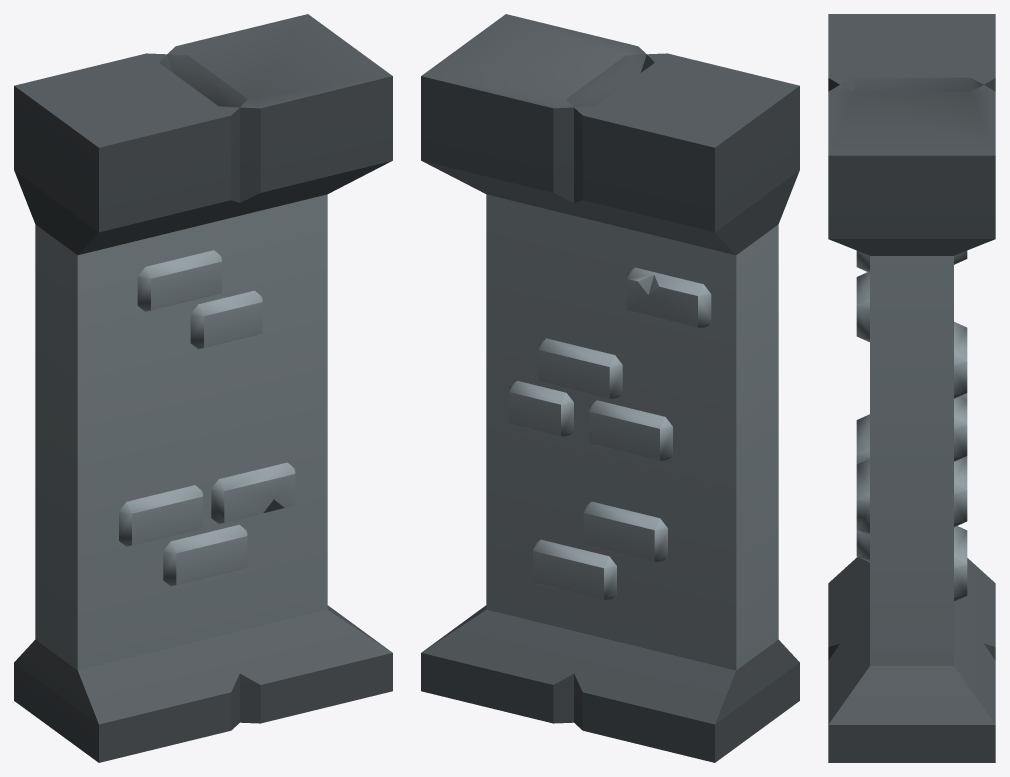
Rendered from wall_half_endcap.gltf.
3 renders of one model, left to right at view 1: azimuth 30°, elevation 25°; view 2: azimuth 150°, elevation 25°; view 3: azimuth 270°, elevation 25°, orthographic.
Visible parts, largest first — view 1: wall_half_endcap; view 2: wall_half_endcap; view 3: wall_half_endcap.
Part boxes in pixels (x1,y1,x2,y2): wall_half_endcap: (14, 14, 392, 762); wall_half_endcap: (421, 14, 799, 762); wall_half_endcap: (828, 14, 995, 762).
Size of the model in its own units: 2 by 4 by 1.
1 material, 1 textured.
